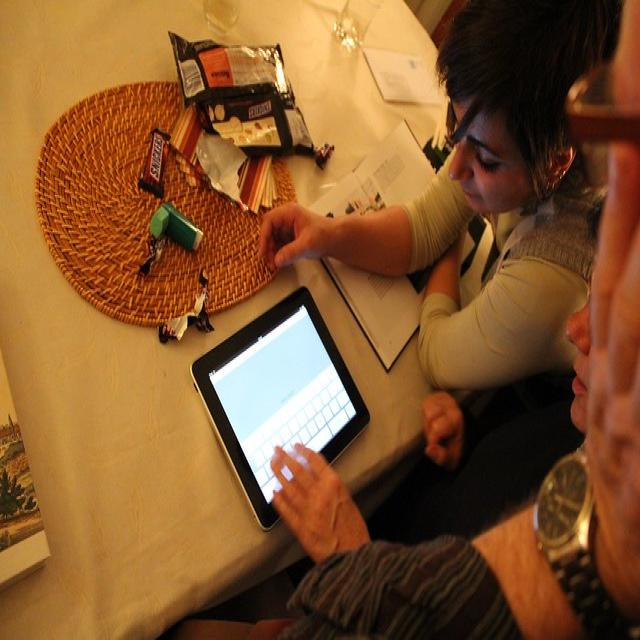desk: (4, 3, 631, 638)
person: (276, 7, 640, 640), (266, 218, 614, 632), (269, 3, 612, 411)
tablet computer: (191, 283, 371, 527)
watch: (524, 445, 622, 636)
